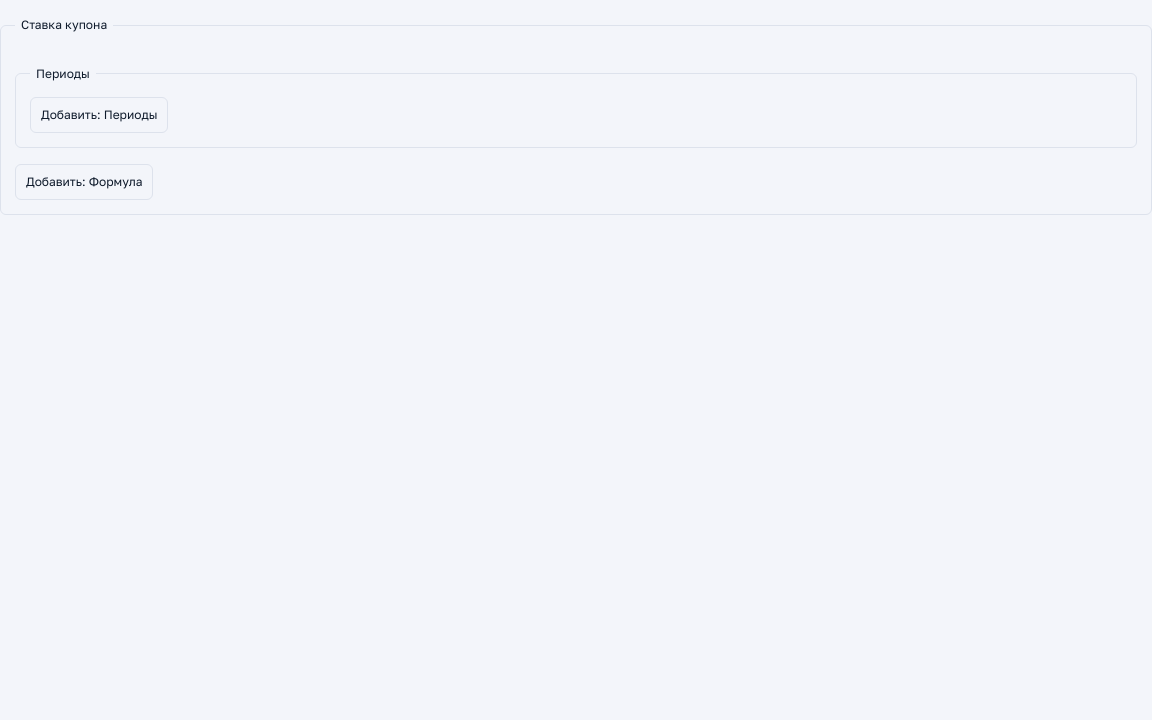
Test: Поле карточки › форма составного поля добавляет и удаляет элементы и необязательную формулу
The image size is (1152, 720).
Step 1. Click the button "Добавить: Периоды" → (99, 115), box [30,97,168,133]
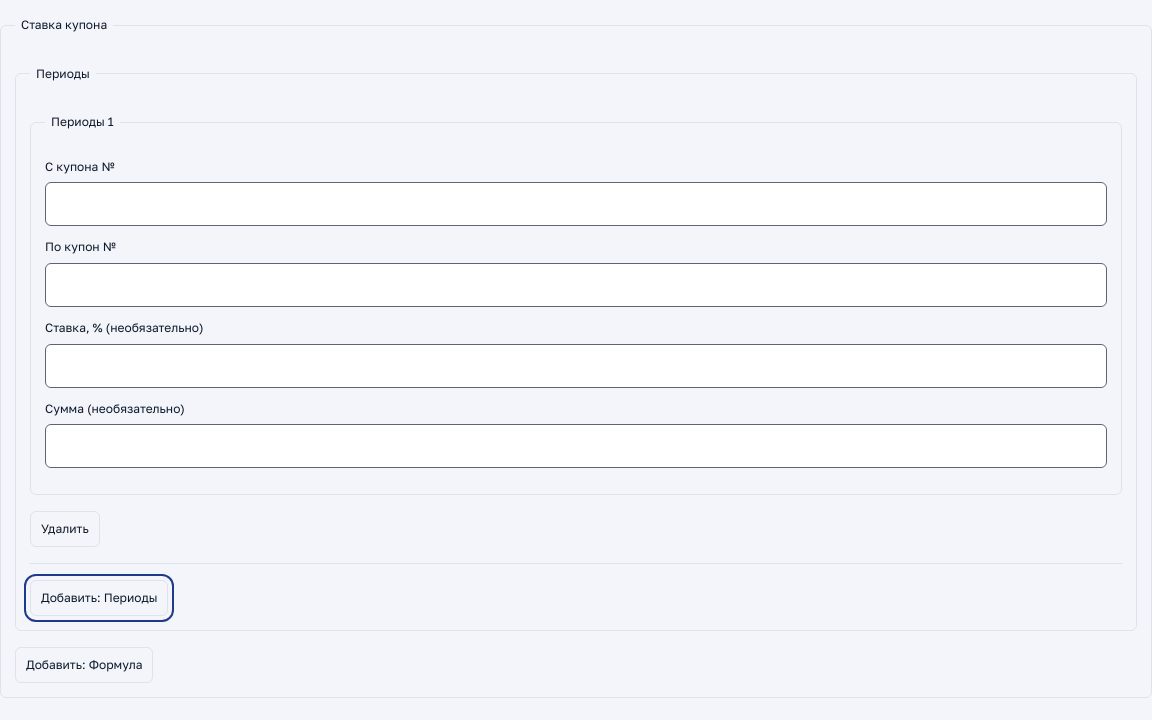
Expected: the number field labelled "С купона №" is shown, [45,182,1107,226]
Step 2. Click the button "Добавить: Формула" → (84, 665), box [15,647,154,683]
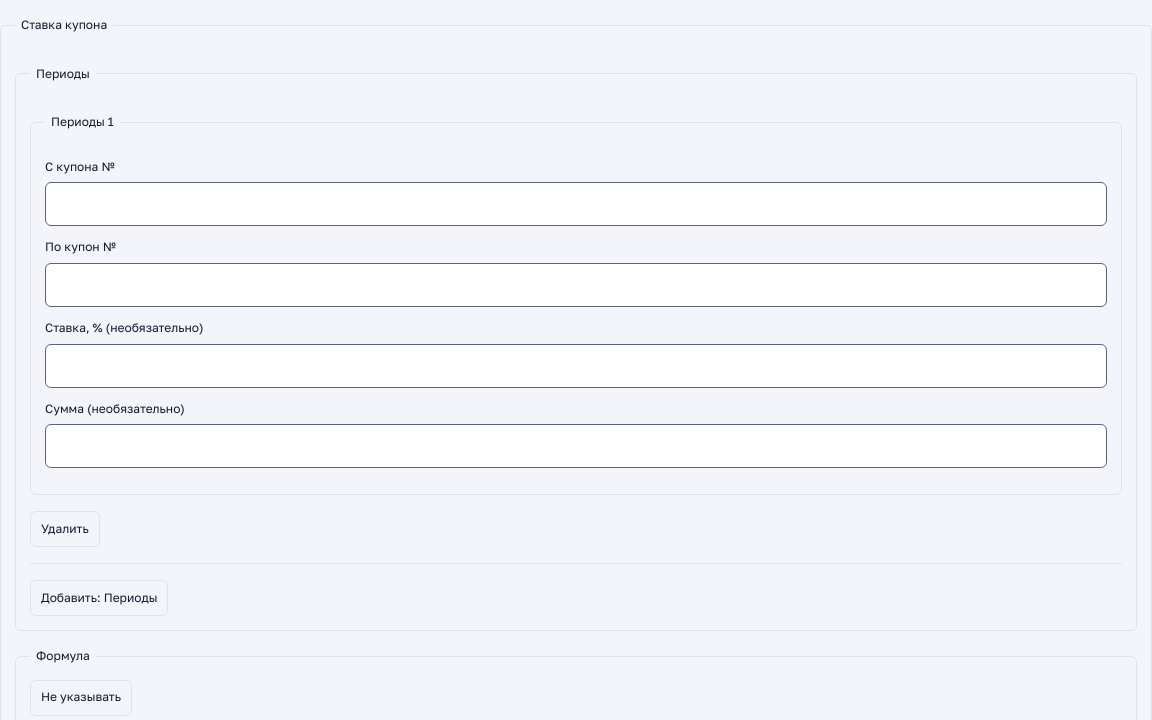
Step 3. Click the button "Не указывать" → (81, 698), box [30,680,132,716]
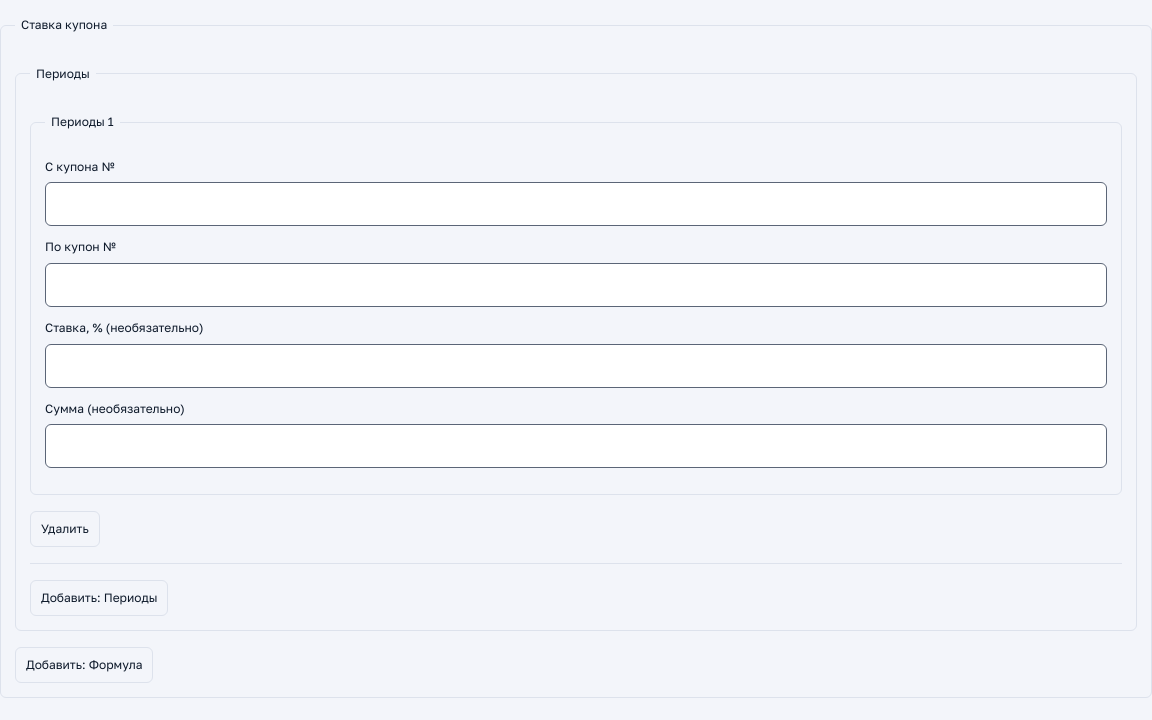
Step 4. Click the button with aria-label "Удалить Периоды 1" → (65, 529), box [30,511,100,547]
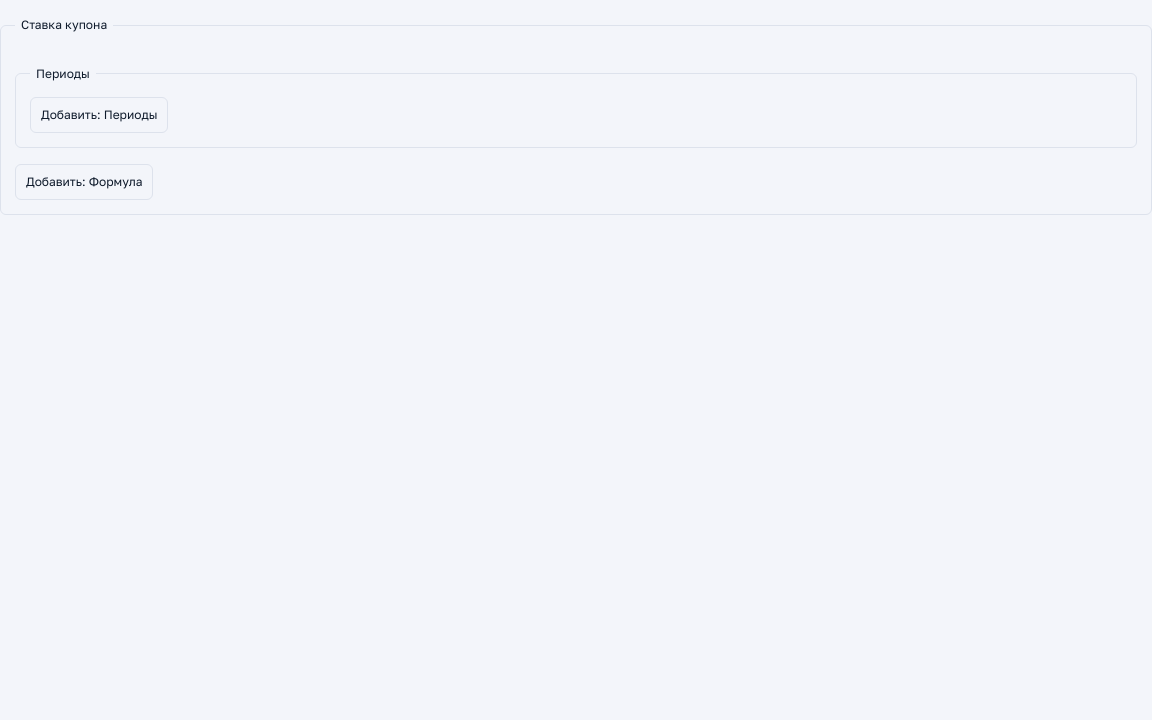
Expected: the label labelled "С купона №" is gone
